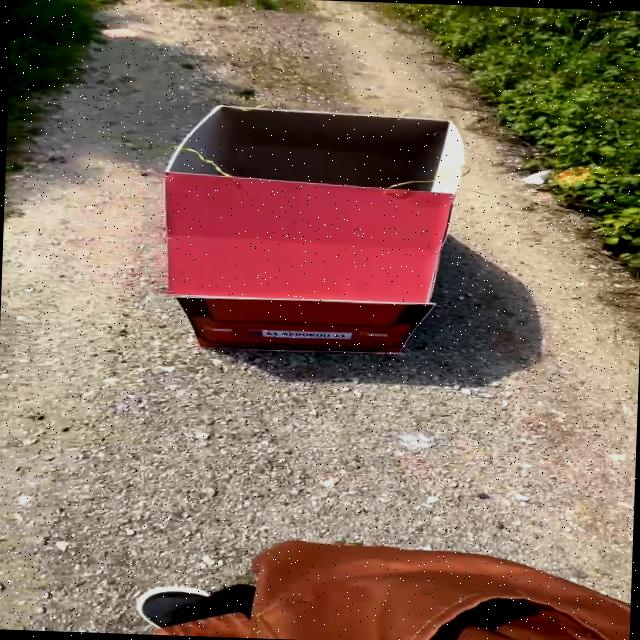red_car: (38, 69, 542, 392)
